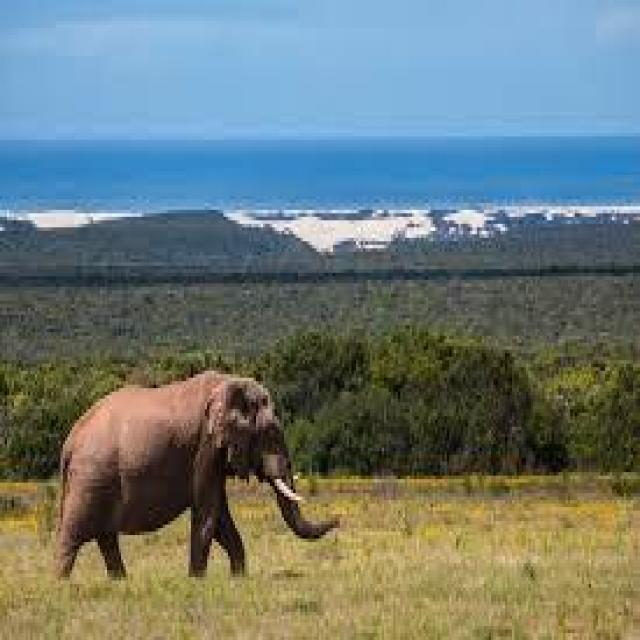Elephant: (42, 367, 340, 588)
